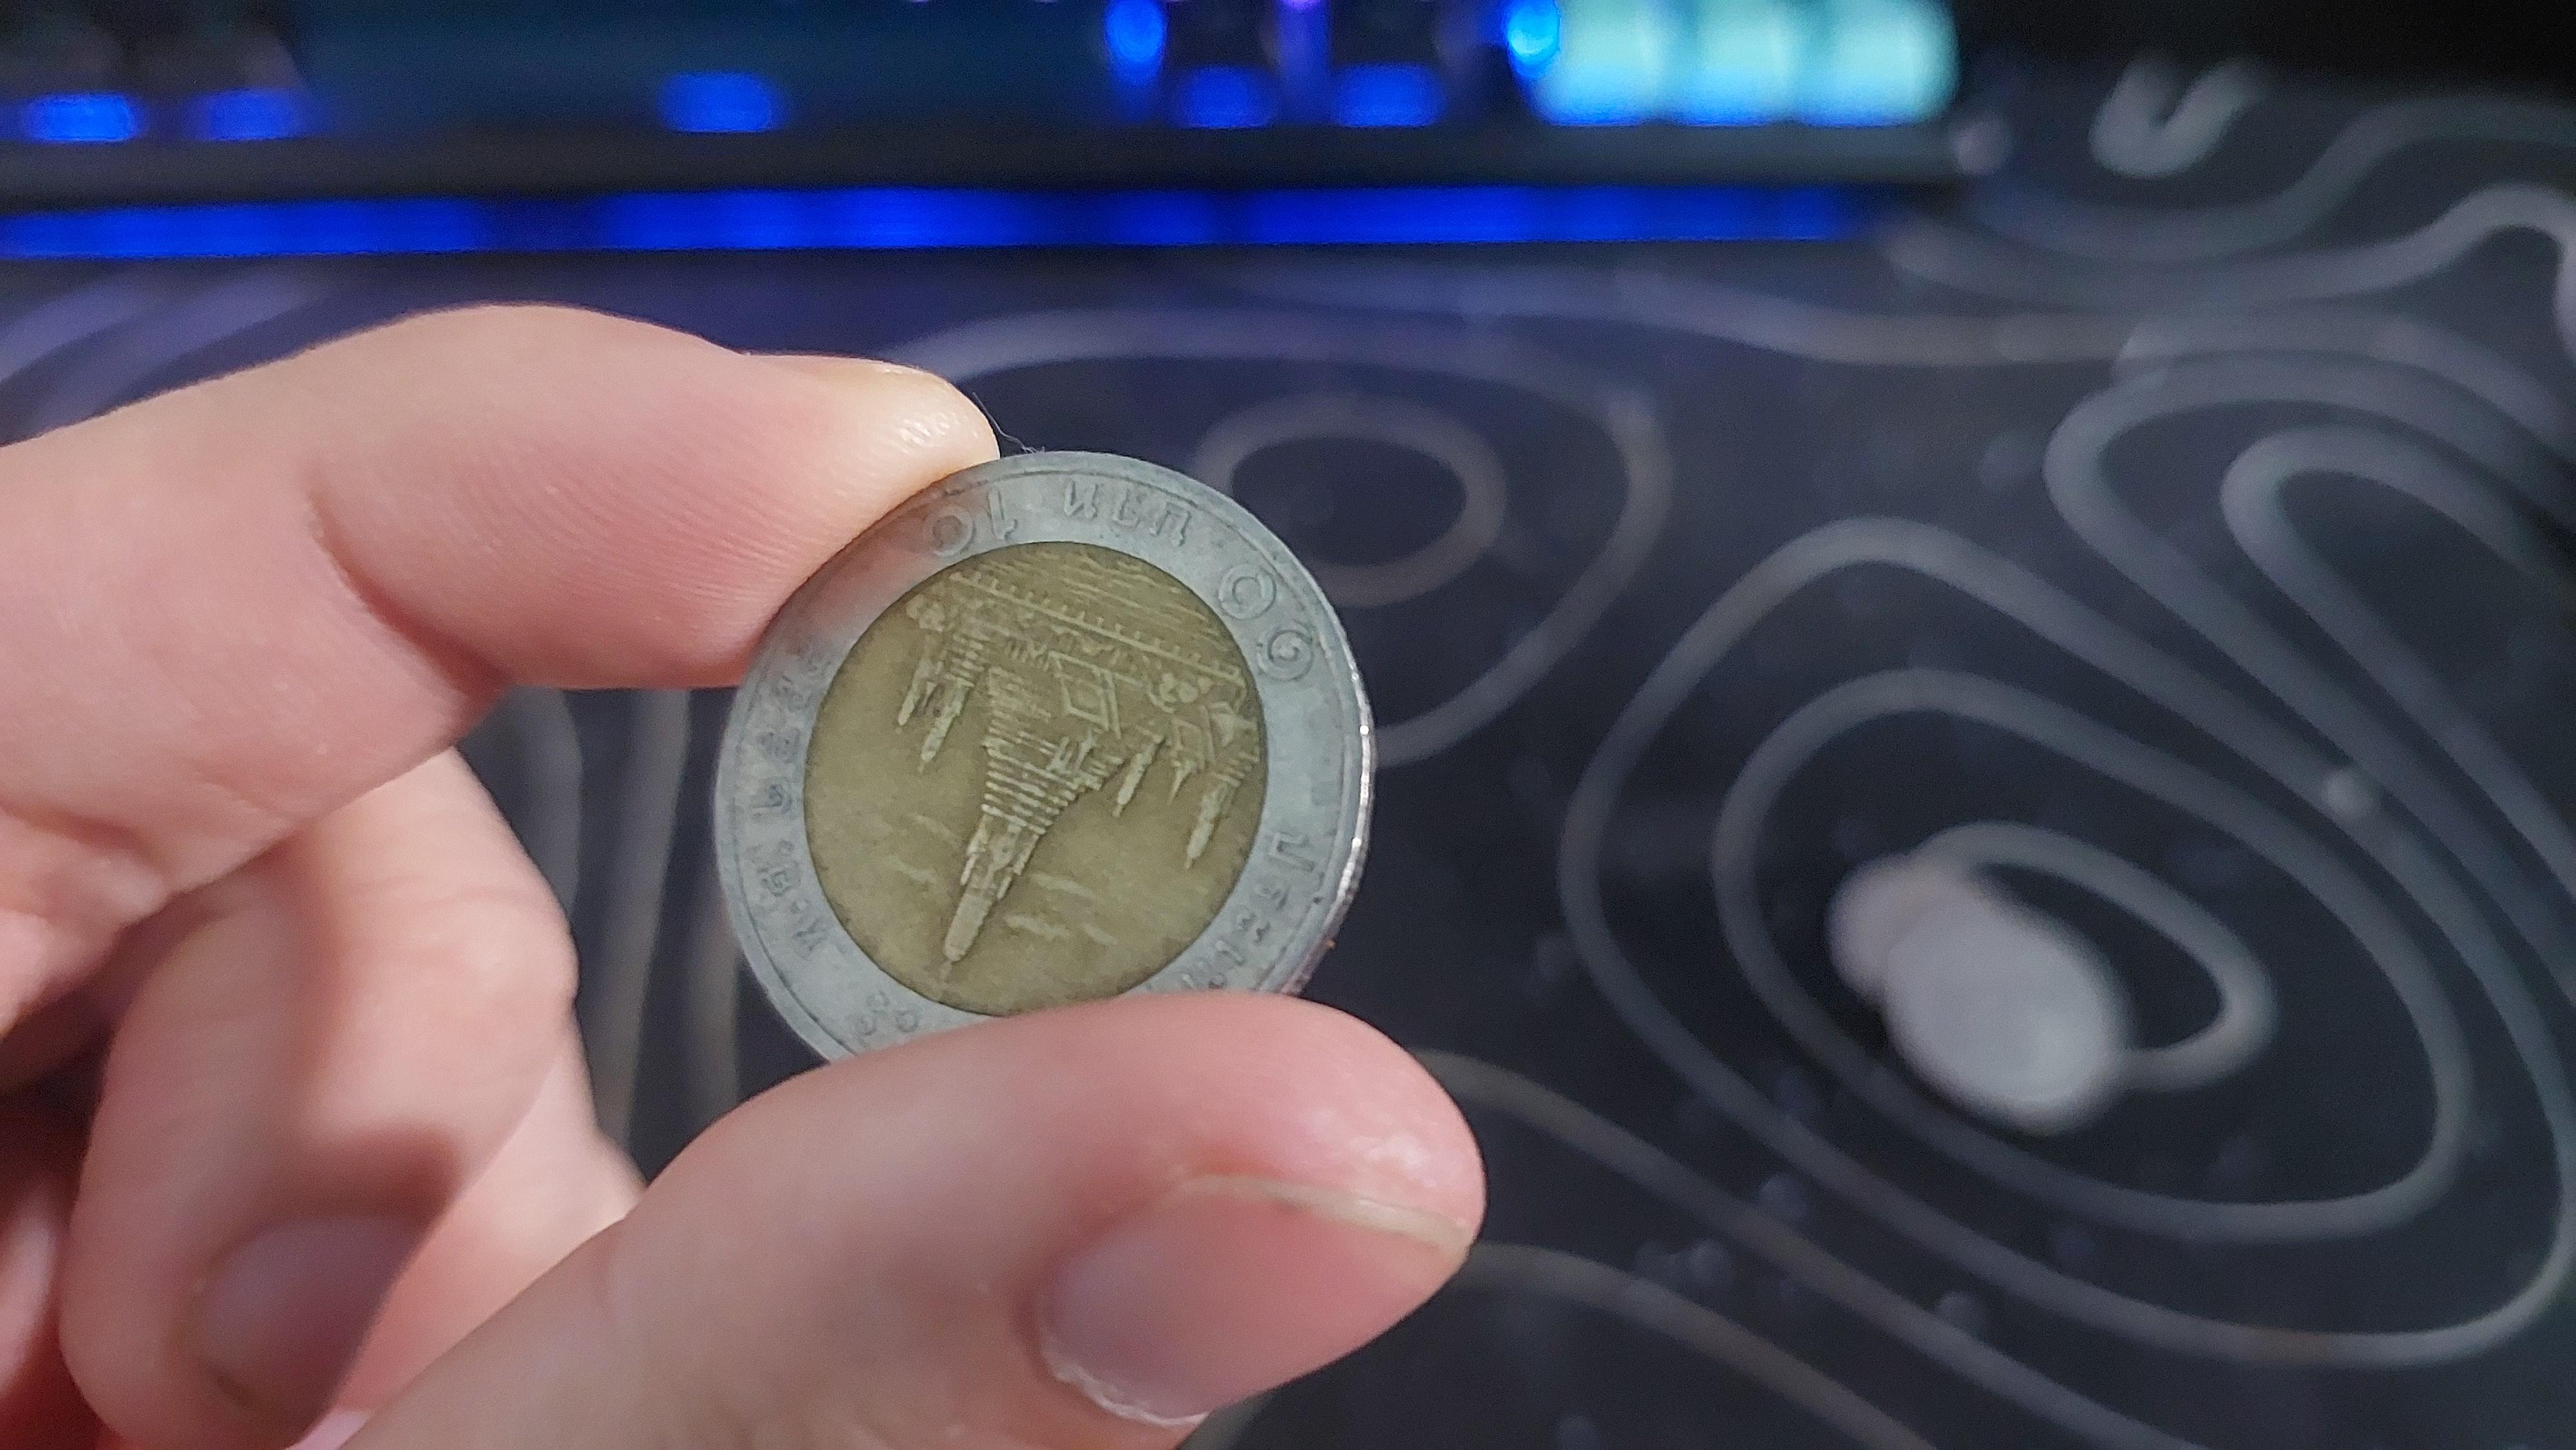10baht: (656, 403, 1410, 1110)
